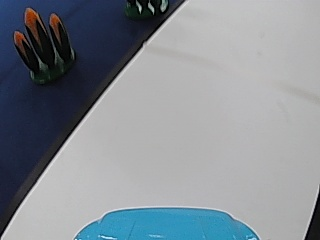corn: (13, 5, 76, 83)
